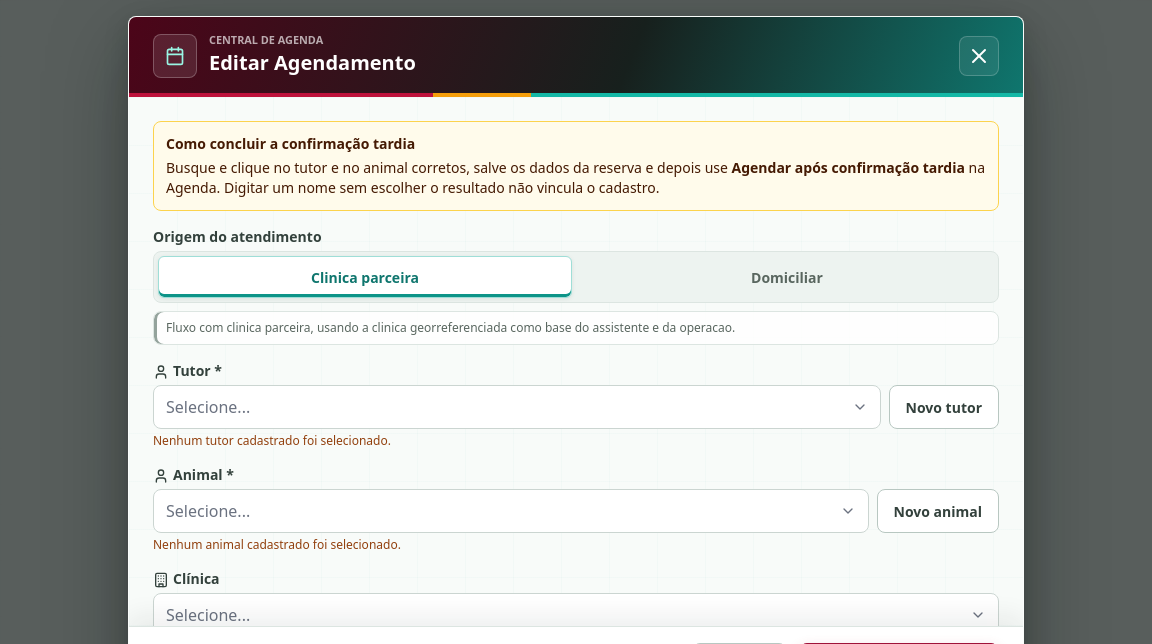
NovoAgendamentoModal - busca remota de animal › mostra animal fora do lote inicial ao selecionar o tutor, sem digitar
The width and height of the screenshot is (1152, 644).
Step 1. Click the 1st button "Selecione..." → {"x": 208, "y": 407}, box x1=153 y1=385 x2=881 y2=429
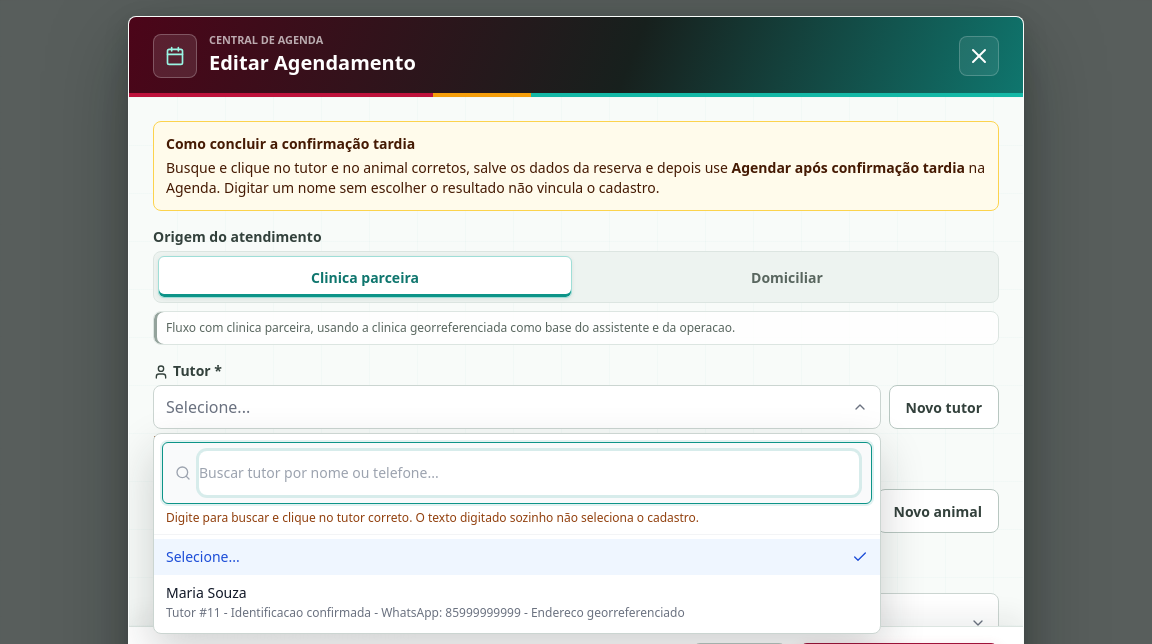
Step 2. Click the button "Maria Souza" → {"x": 517, "y": 602}, box x1=154 y1=575 x2=880 y2=629
(page scrolled)
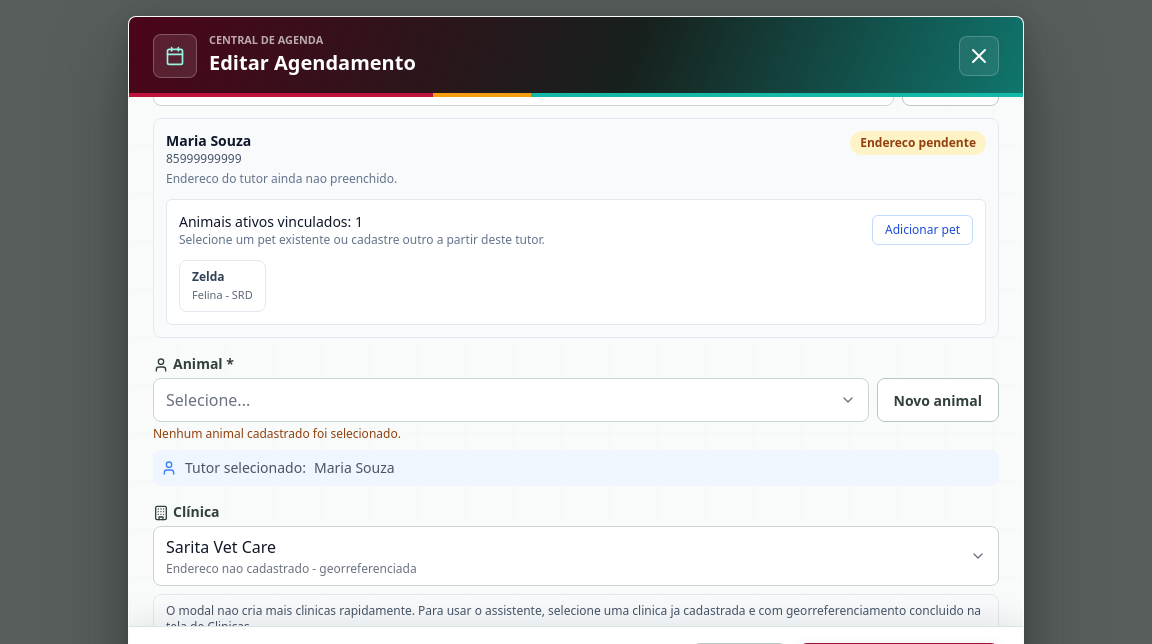
Step 3. Click the button "Selecione..." → {"x": 208, "y": 400}, box x1=153 y1=378 x2=868 y2=422
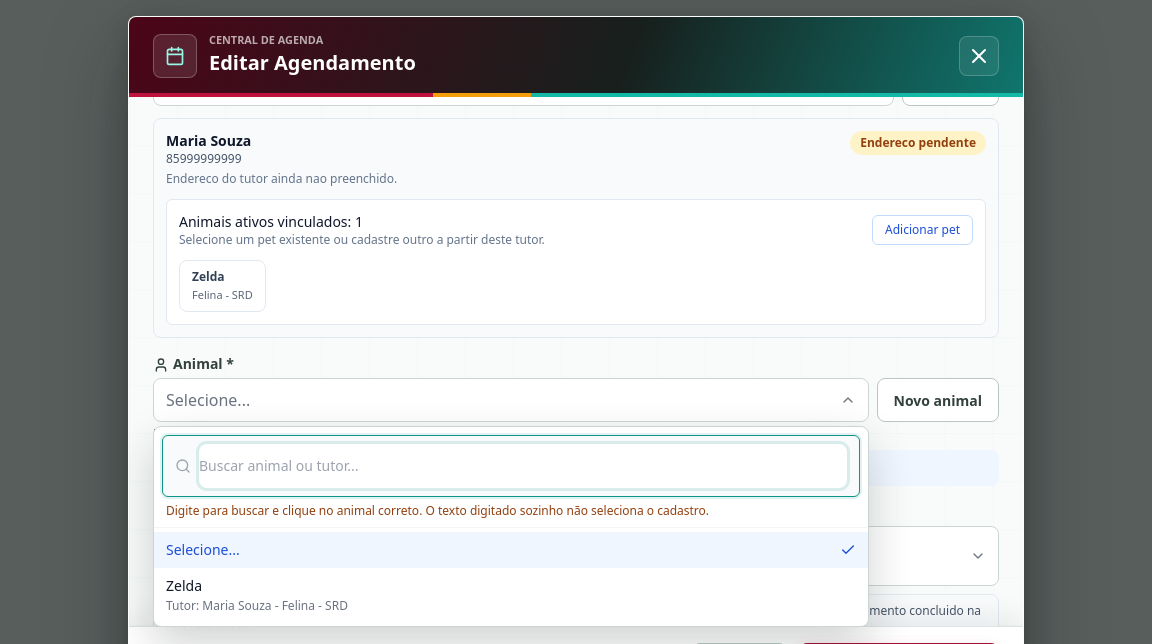
Step 4. Click the button "Zelda Tutor: Maria Souza - Felina - SRD" → {"x": 184, "y": 586}, box x1=154 y1=568 x2=868 y2=622
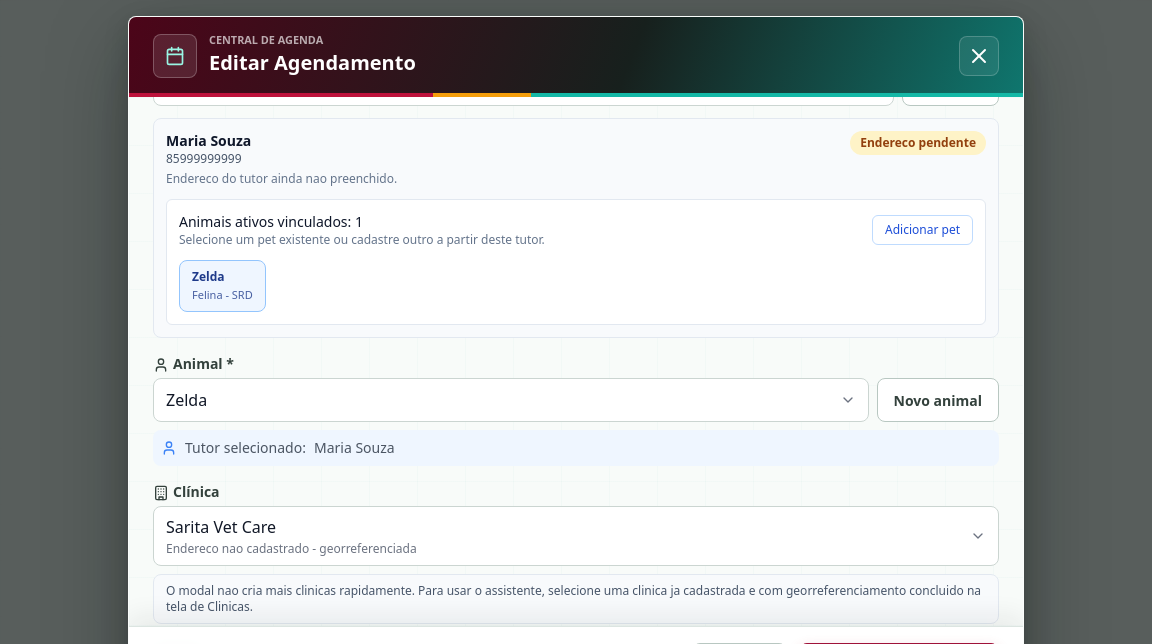
Expected: the button "Zelda" is shown, x1=153 y1=378 x2=868 y2=422
